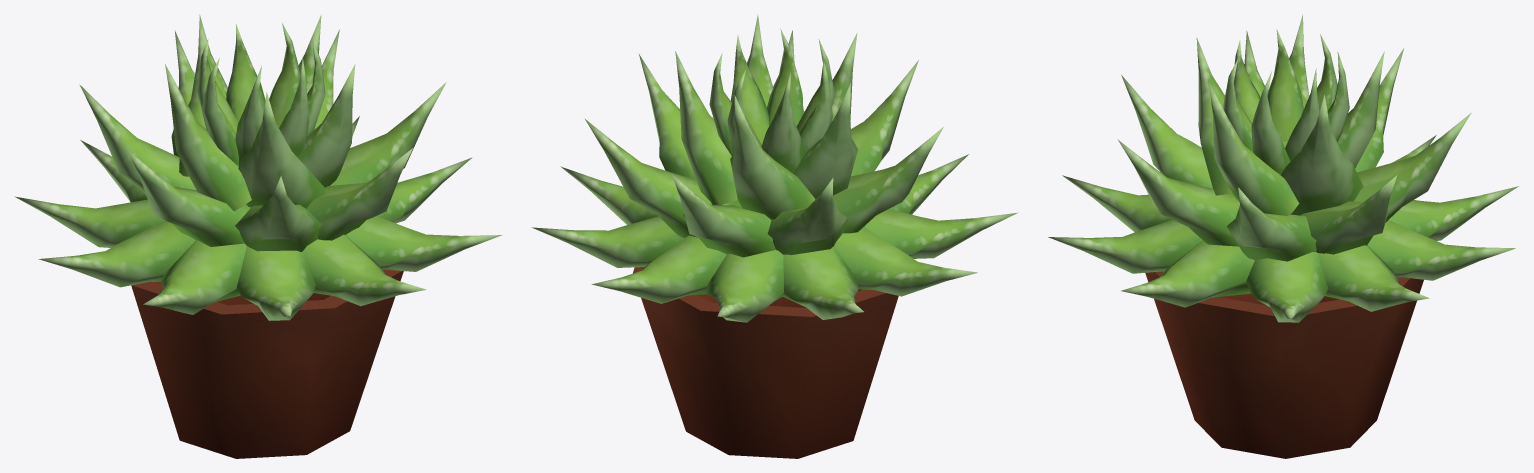
The model's file is Succulent01.glb.
The picture shows the model from 3 angles, left to right: view 1: azimuth 30°, elevation 25°; view 2: azimuth 150°, elevation 25°; view 3: azimuth 270°, elevation 25°; orthographic projection. The views are drawn at different scales.
Visible parts, largest first — view 1: Succulent; view 2: Succulent; view 3: Succulent.
Boxes of the visible parts, x1,y1,x2,y2 form: Succulent: (15,14,502,458); Succulent: (531,15,1017,458); Succulent: (1048,14,1518,458).
Size of the model in its own units: 0.5382 by 0.452 by 0.5216.
Materials: 1 (1 with a texture image).
